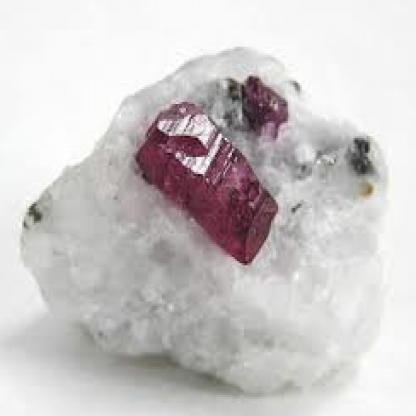Metamorphic_Marble: (17, 34, 389, 393)
